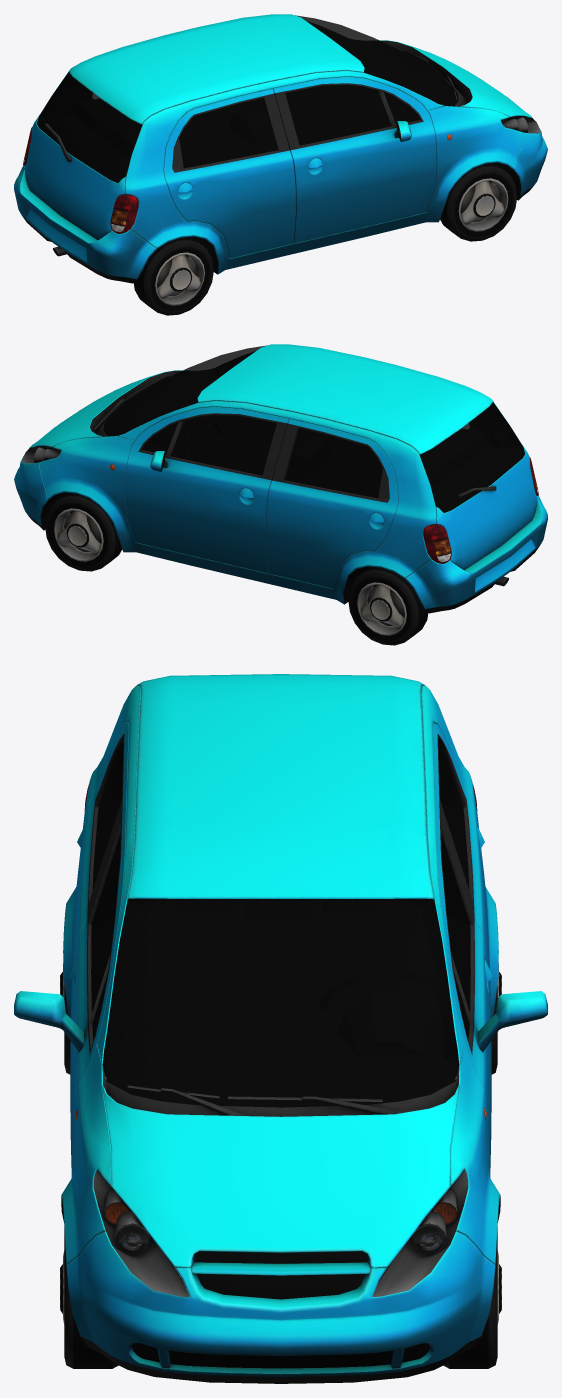
Rendered from compact.glb.
The picture shows the model from 3 angles, top to bottom: view 1: azimuth 30°, elevation 25°; view 2: azimuth 150°, elevation 25°; view 3: azimuth 270°, elevation 25°; orthographic projection. The views are drawn at different scales.
Visible parts, largest first — view 1: body, wheel (×2); view 2: body, wheel (×2); view 3: body, wheel (×2).
Part boxes in pixels (x1,y1,x2,y2): body: (14, 14, 547, 283); wheel (×2): (133, 163, 517, 315); body: (14, 344, 547, 613); wheel (×2): (45, 493, 428, 645); body: (14, 674, 547, 1383); wheel (×2): (60, 1228, 501, 1368).
Size of the model in its own units: 3.26 by 1.32 by 1.61.
Materials: 4 (3 with a texture image).
